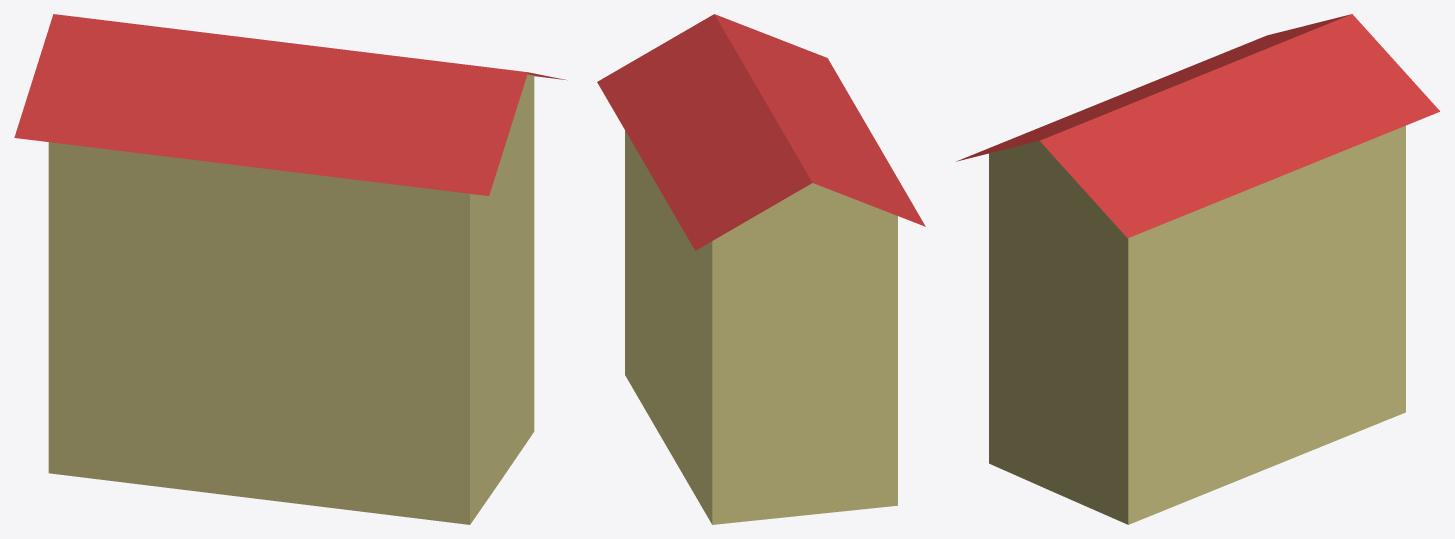
3 renders of one model, left to right at view 1: azimuth 30°, elevation 25°; view 2: azimuth 150°, elevation 25°; view 3: azimuth 270°, elevation 25°, orthographic. The views are drawn at different scales.
Size of the model in its own units: 9.84 by 9.95 by 8.13.
